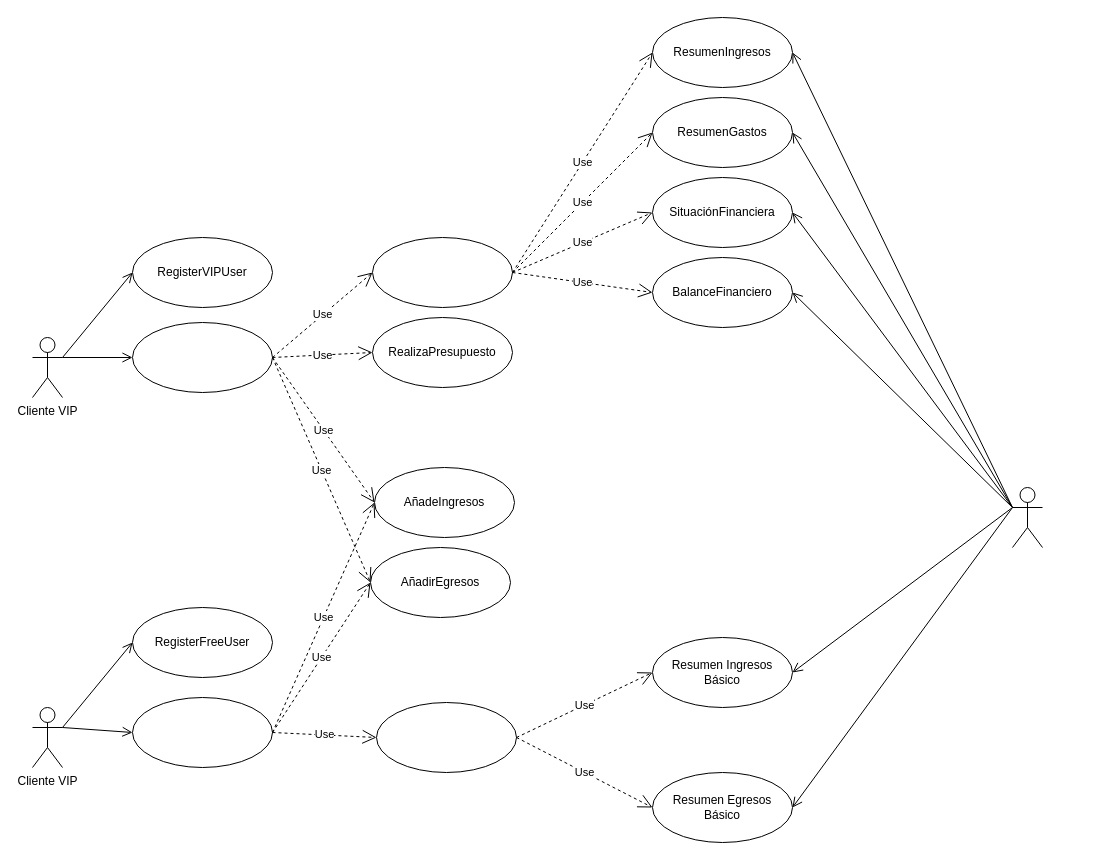
Image size: 1097x860. Some labels were removed from this diagram. Each missing label, with the centre of its shape:
"LoginFreeUser" goes at pixel 202 732.
"LogInVIPUser" goes at pixel 202 357.
"Sistema de Gestión de Finanzas Personales" goes at pixel 1027 517.
"Ver Informe Financiero Avanzado" goes at pixel 442 272.
"Ver Informe Financiero Básico" goes at pixel 446 737.
